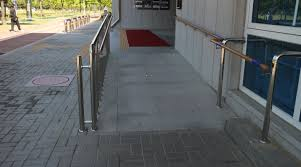guide_blocks: (78, 42, 90, 58), (120, 30, 128, 47), (32, 42, 46, 51), (47, 45, 82, 48)
